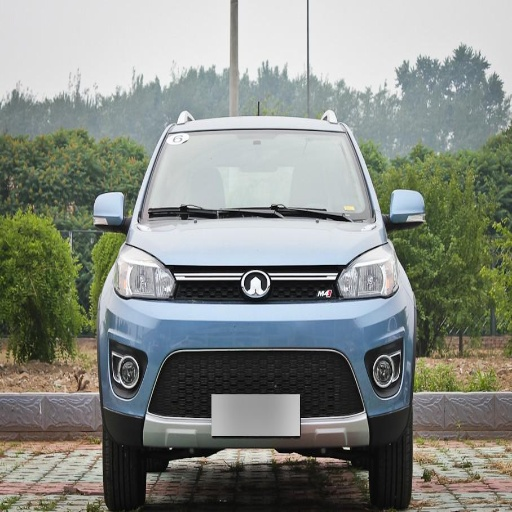front_bumper: (102, 265, 412, 447)
front_right_light: (114, 256, 176, 299)
hood: (128, 218, 384, 268)
left_mirror: (387, 190, 426, 228)
